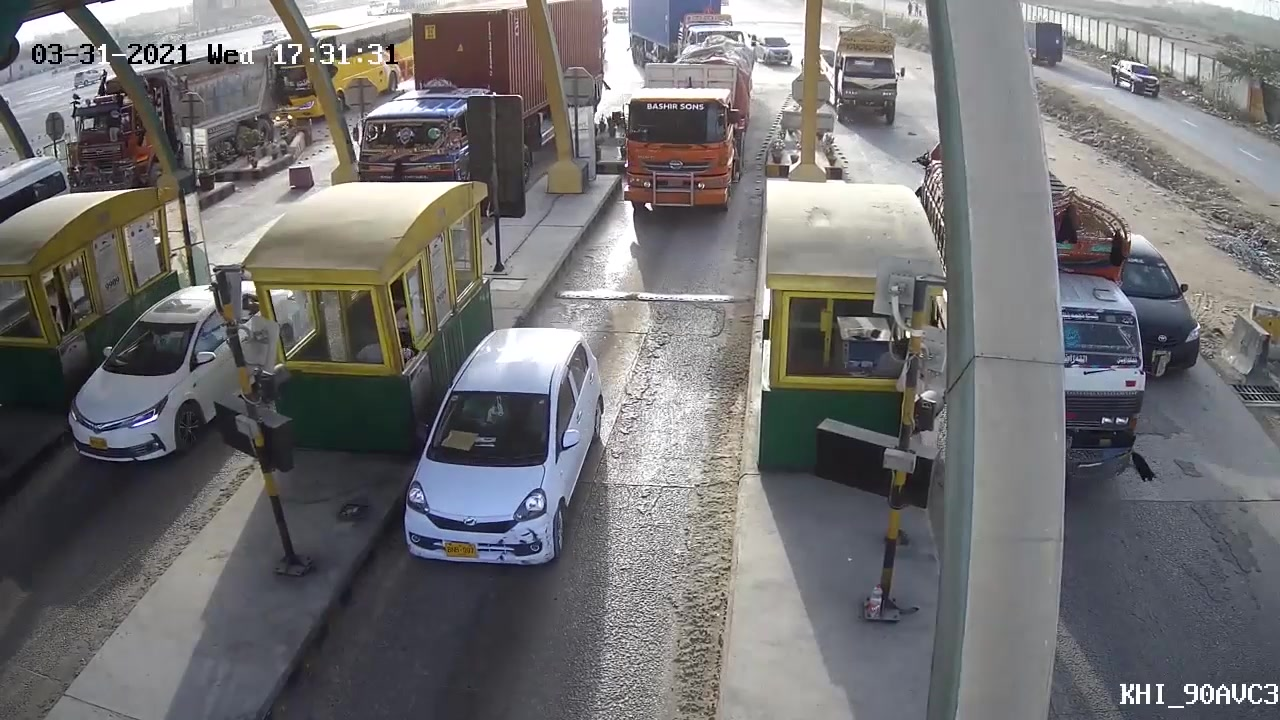F5: (409, 324, 601, 591)
